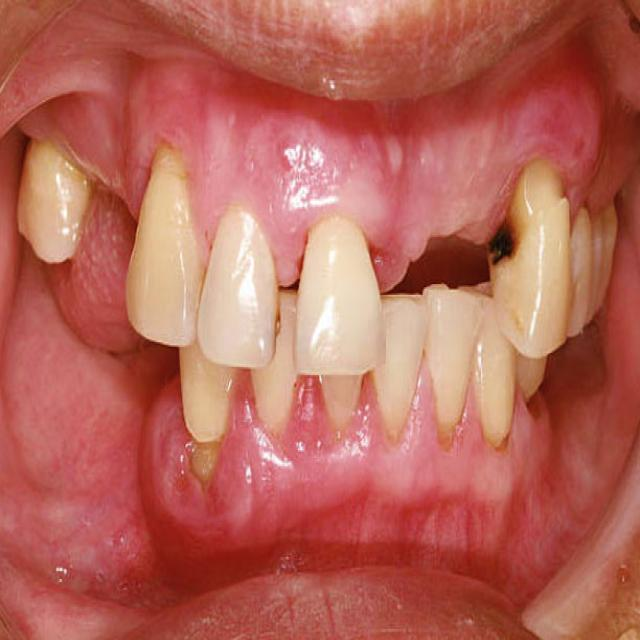caries: (480, 208, 526, 276), (188, 420, 219, 484)
